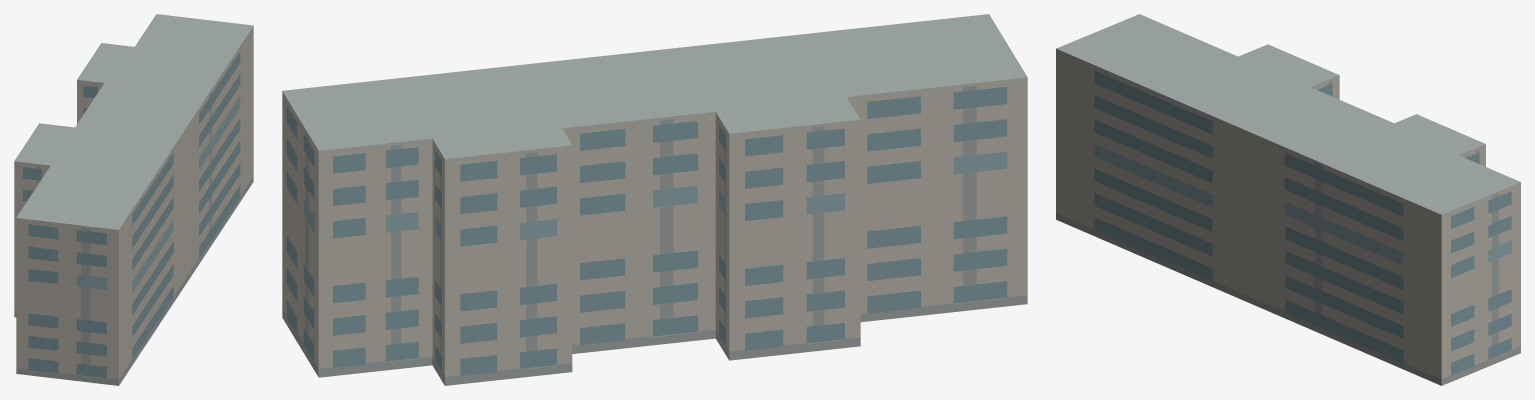
File: residential-7756239d-659c-4e20-8f9f-08a27d26bb2f.glb
3 renders of one model, left to right at view 1: azimuth 30°, elevation 25°; view 2: azimuth 150°, elevation 25°; view 3: azimuth 270°, elevation 25°, orthographic. The views are drawn at different scales.
Parts seen in each view (by area): view 1: residential-7756239d-659c-4e20-8f9f-08a27d26bb2f.tmp; view 2: residential-7756239d-659c-4e20-8f9f-08a27d26bb2f.tmp; view 3: residential-7756239d-659c-4e20-8f9f-08a27d26bb2f.tmp.
Boxes of the visible parts, x1=… form: residential-7756239d-659c-4e20-8f9f-08a27d26bb2f.tmp: x1=14, y1=14, x2=253, y2=385; residential-7756239d-659c-4e20-8f9f-08a27d26bb2f.tmp: x1=282, y1=14, x2=1027, y2=385; residential-7756239d-659c-4e20-8f9f-08a27d26bb2f.tmp: x1=1056, y1=14, x2=1520, y2=385.
Bounding box in the file's own units: 53.74 × 21.35 × 52.56.
